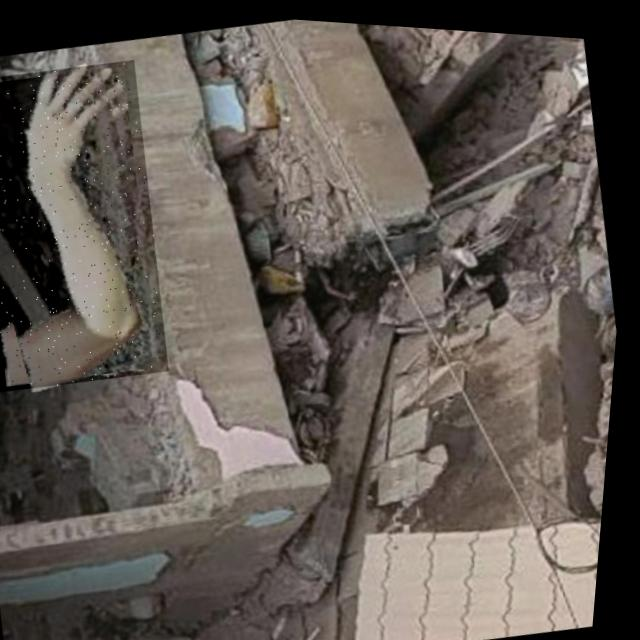Person in Rubble: (0, 50, 195, 400)
